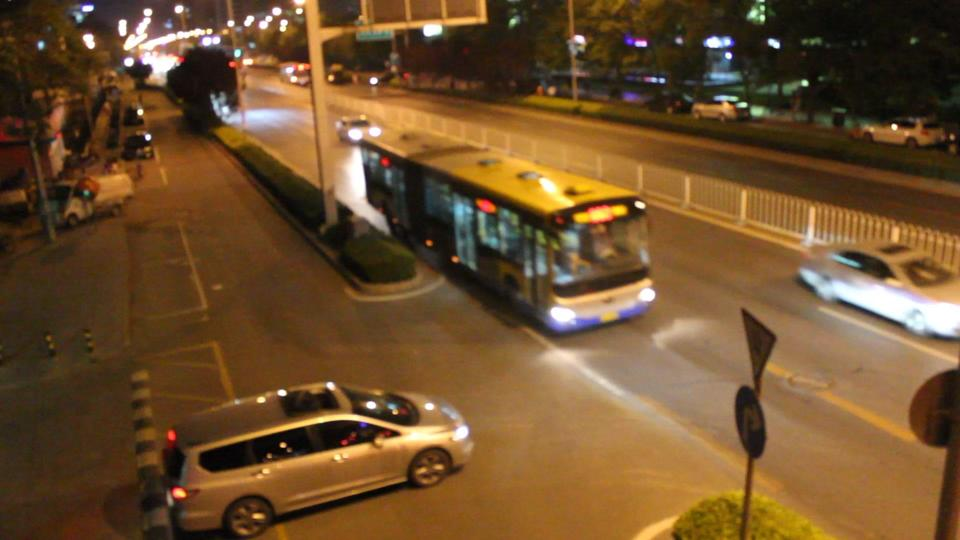bus: (359, 128, 655, 335)
car: (164, 380, 475, 540), (798, 241, 960, 338), (849, 113, 949, 150), (691, 94, 751, 122), (335, 114, 383, 144), (123, 130, 156, 160), (121, 102, 146, 126)
truck: (35, 171, 133, 227)
